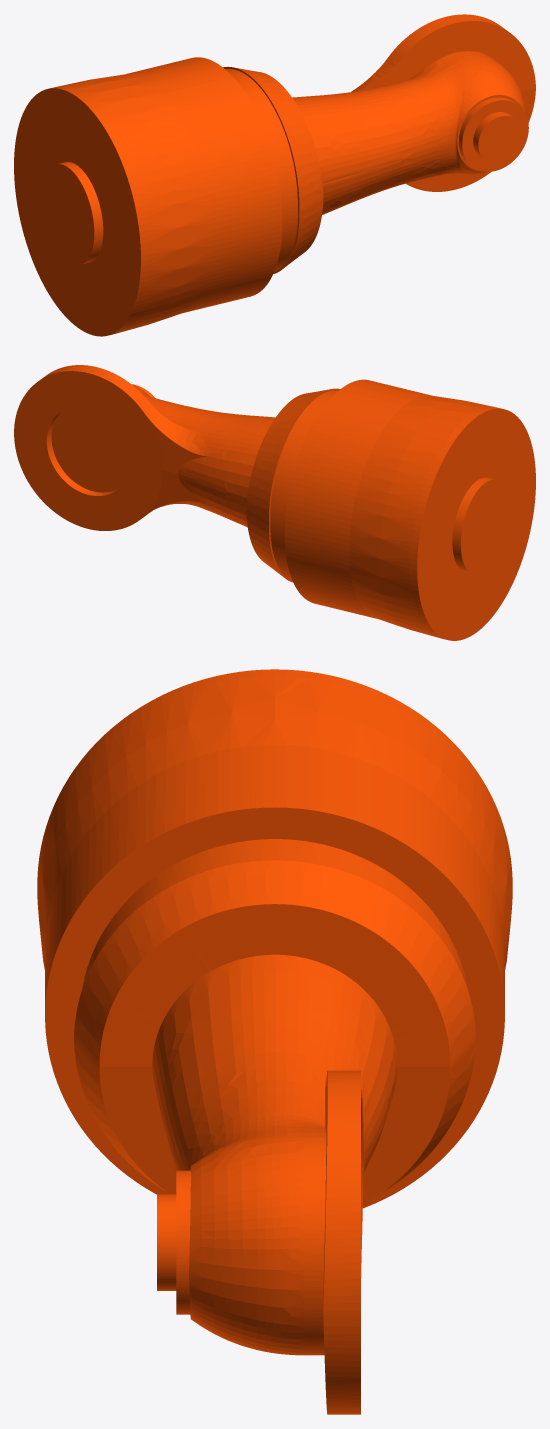
The picture shows the model from 3 angles, top to bottom: view 1: azimuth 30°, elevation 25°; view 2: azimuth 150°, elevation 25°; view 3: azimuth 270°, elevation 25°; orthographic projection. The views are drawn at different scales.
Parts seen in each view (by area): view 1: node0; view 2: node0; view 3: node0.
Boxes of the visible parts, x1,y1,x2,y2 form: node0: (14,14,535,336); node0: (14,365,535,640); node0: (37,669,512,1414).
Size of the model in its own units: 0.5371 by 0.2459 by 0.2475.
